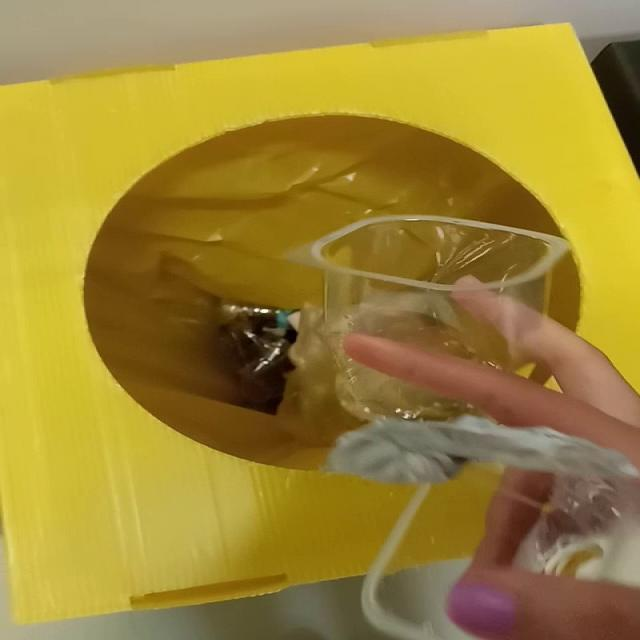Plastic: (312, 215, 569, 421)
